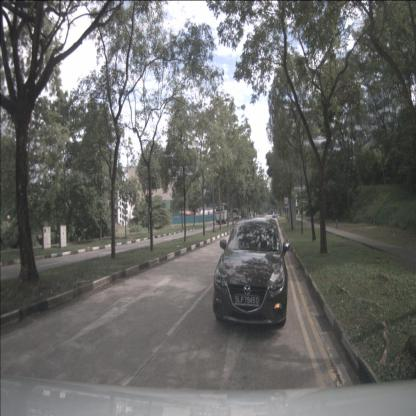vehicle-bus-rigid: (215, 203, 230, 224), (232, 208, 241, 219)
vehicle-car: (213, 218, 288, 332)
